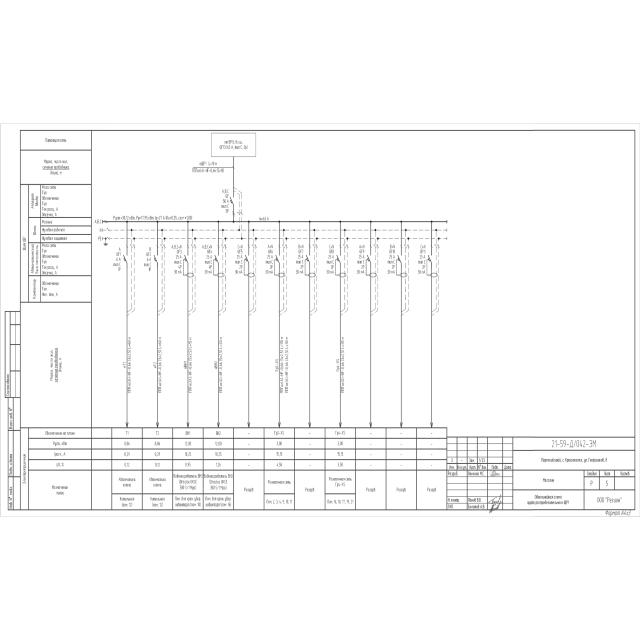-: (171, 254, 183, 276), (201, 255, 213, 276), (234, 253, 244, 276), (325, 254, 335, 276), (294, 254, 304, 276), (417, 255, 427, 275), (265, 254, 274, 276), (356, 254, 365, 275), (386, 254, 395, 275), (220, 198, 230, 215), (112, 257, 121, 272), (144, 257, 152, 272)
QF: (153, 253, 159, 264), (123, 252, 128, 264), (230, 195, 235, 206)
QFD: (365, 253, 378, 278), (426, 253, 439, 278), (395, 253, 408, 277), (182, 253, 195, 277), (304, 253, 316, 278), (274, 253, 286, 278), (244, 253, 256, 278), (213, 253, 225, 278), (335, 253, 347, 277)
